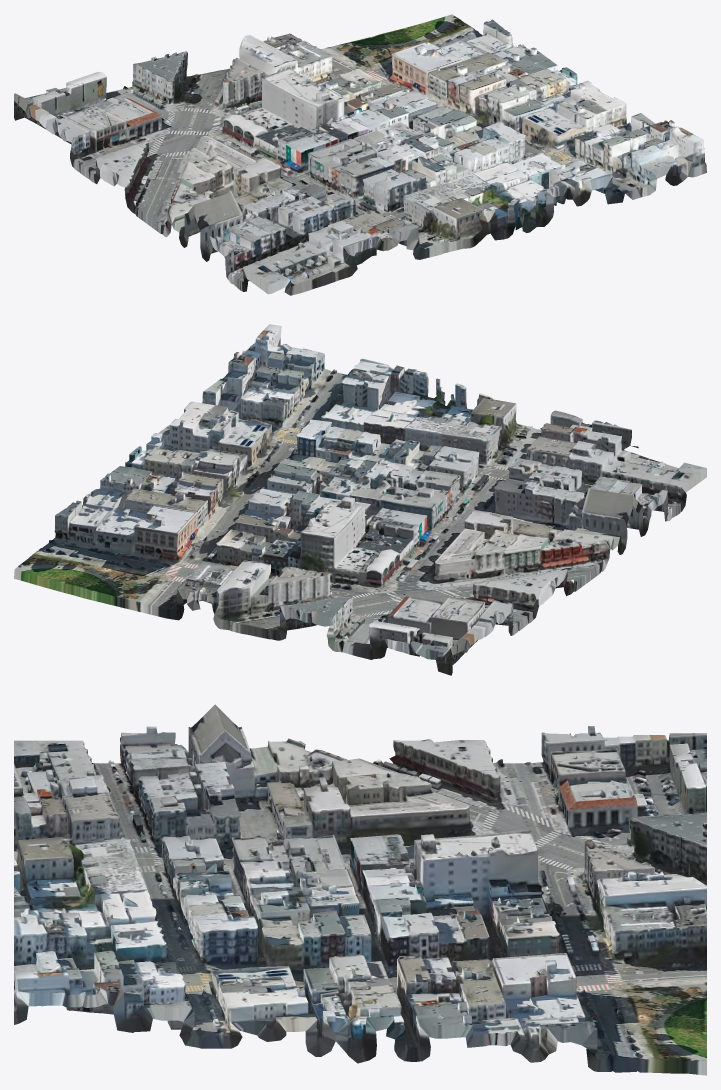
The model's file is z17-20968-50650-h0-yup-uvflip-v3-world.glb.
3 renders of one model, top to bottom at view 1: azimuth 30°, elevation 25°; view 2: azimuth 150°, elevation 25°; view 3: azimuth 270°, elevation 25°, orthographic. The views are drawn at different scales.
Size of the model in its own units: 242 by 40.32 by 243.
1 material, 1 textured.
